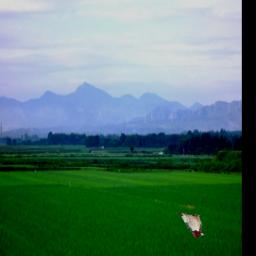Woodpecker: (176, 212, 205, 238)
